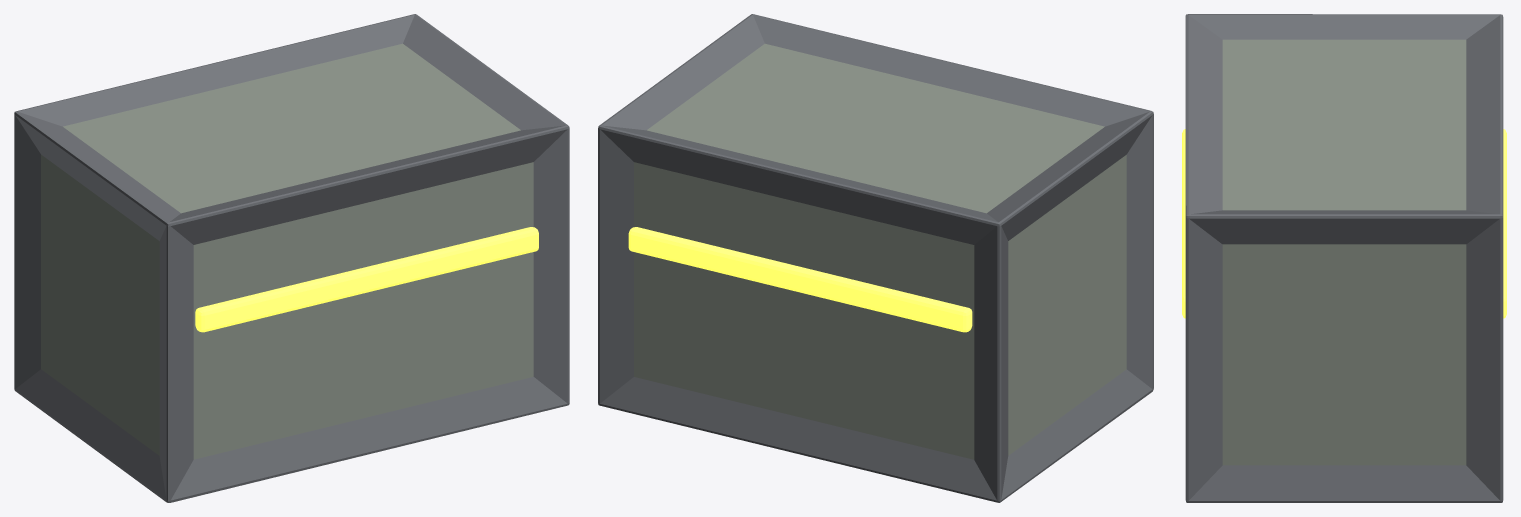
Rendered from SciFiCrate.fbx.
3 views of the same model, side by side, from view 1: azimuth 30°, elevation 25°; view 2: azimuth 150°, elevation 25°; view 3: azimuth 270°, elevation 25° (orthographic). The views are drawn at different scales.
Parts seen in each view (by area): view 1: SciFiCrate; view 2: SciFiCrate; view 3: SciFiCrate.
Boxes of the visible parts, left/top/right/bottom form: SciFiCrate: left=14, top=14, right=569, bottom=502; SciFiCrate: left=598, top=14, right=1153, bottom=502; SciFiCrate: left=1182, top=14, right=1506, bottom=502.
Bounding box in the file's own units: 1.19 × 0.7924 × 0.81.
